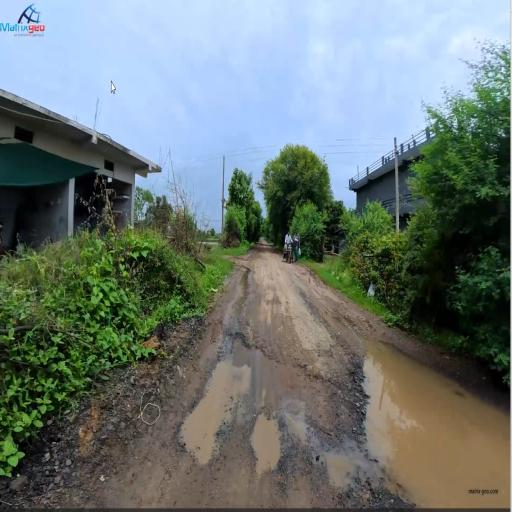edge_damage: (157, 332, 180, 480), (215, 303, 235, 364)
pothole: (250, 357, 352, 499)
